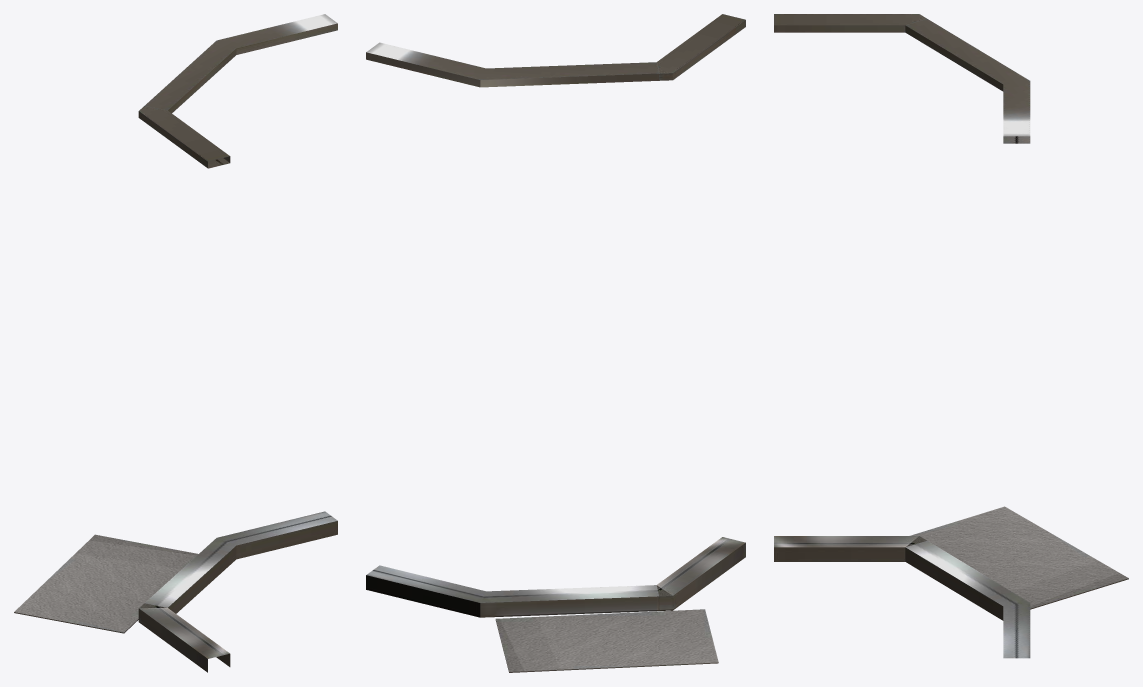
Rendered from 2014_WSJ_JJ_24.FBX.
The picture shows the model from 3 angles, left to right: view 1: azimuth 30°, elevation 25°; view 2: azimuth 150°, elevation 25°; view 3: azimuth 270°, elevation 25°; orthographic projection. The views are drawn at different scales.
Parts seen in each view (by area): view 1: 2014_WSJ_JJ_24; view 2: 2014_WSJ_JJ_24; view 3: 2014_WSJ_JJ_24.
Boxes of the visible parts, left/top/right/bottom form: 2014_WSJ_JJ_24: left=14, top=14, right=337, bottom=672; 2014_WSJ_JJ_24: left=366, top=14, right=745, bottom=672; 2014_WSJ_JJ_24: left=774, top=14, right=1128, bottom=658.
Bounding box in the file's own units: 1.46 × 2.2 × 1.32.
